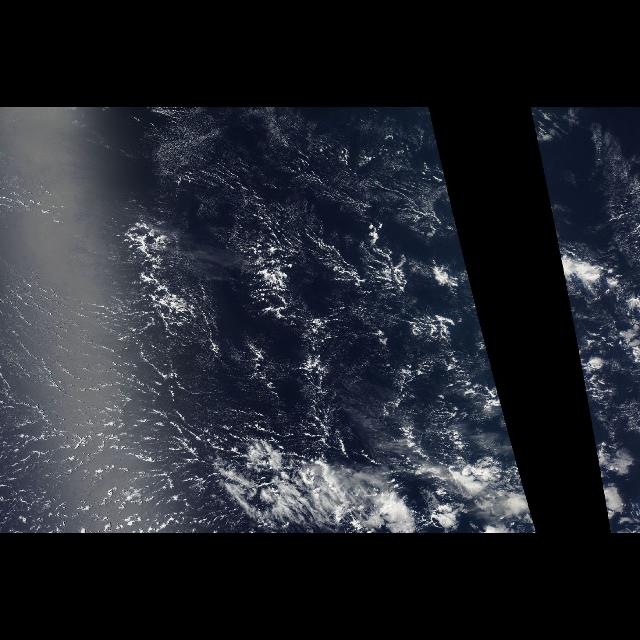Gravel: (1, 284, 225, 534)
Sugar: (0, 248, 212, 534), (0, 107, 460, 231)
